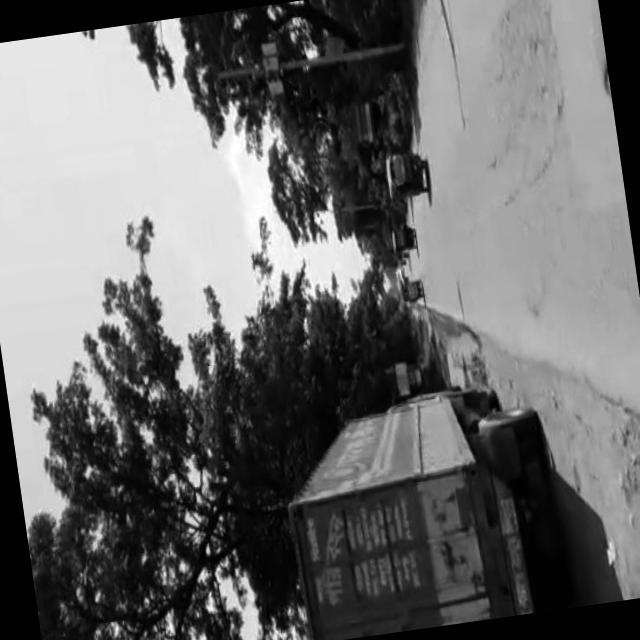motorcycle: (382, 158, 429, 203), (388, 228, 417, 257)
truck: (274, 380, 558, 638)
